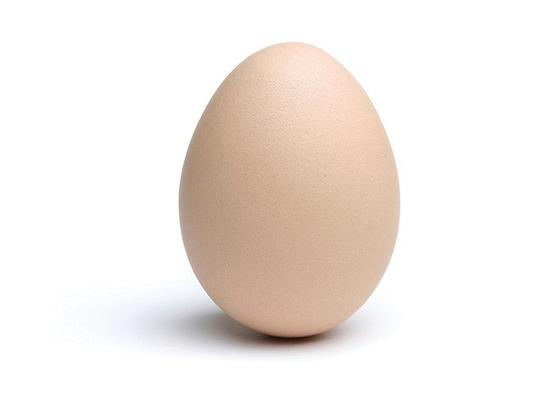egg: (184, 37, 402, 347)
